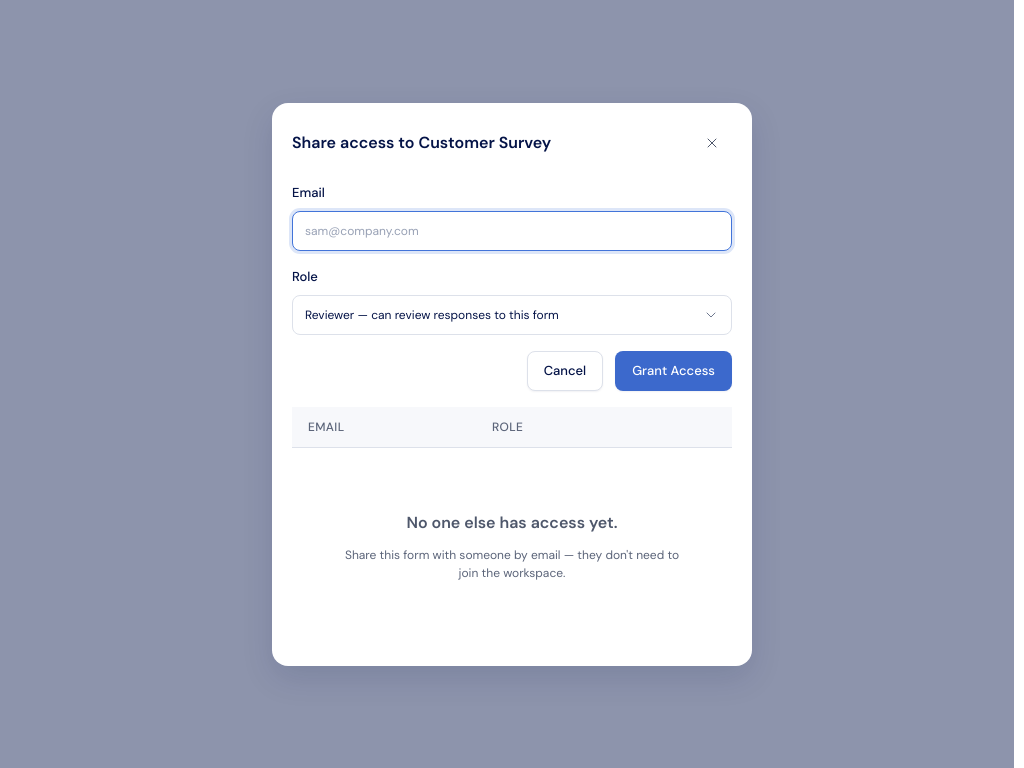
Test: FormAccessPanel › rejects an invalid email before submitting
Type "not-an-email" into the field labelled "Email".
click(512, 230); type("not-an-email")  # box top-left (292, 210), bottom-right (732, 250)
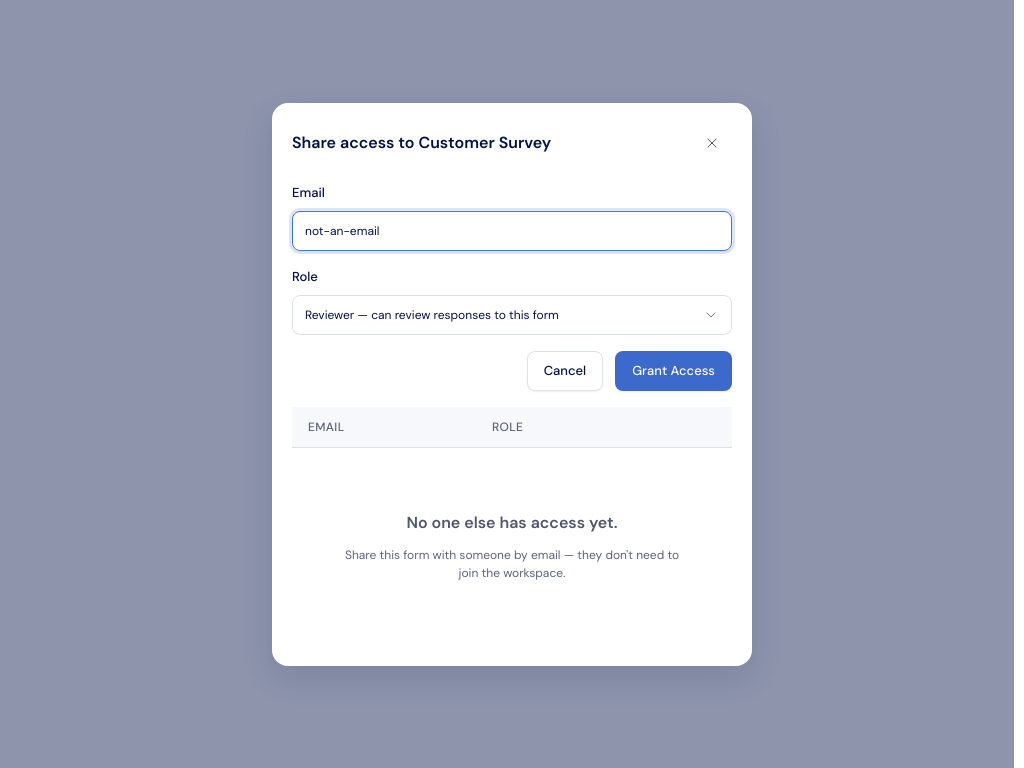
Click the button "Grant Access".
click(674, 370)  # box top-left (615, 350), bottom-right (732, 390)
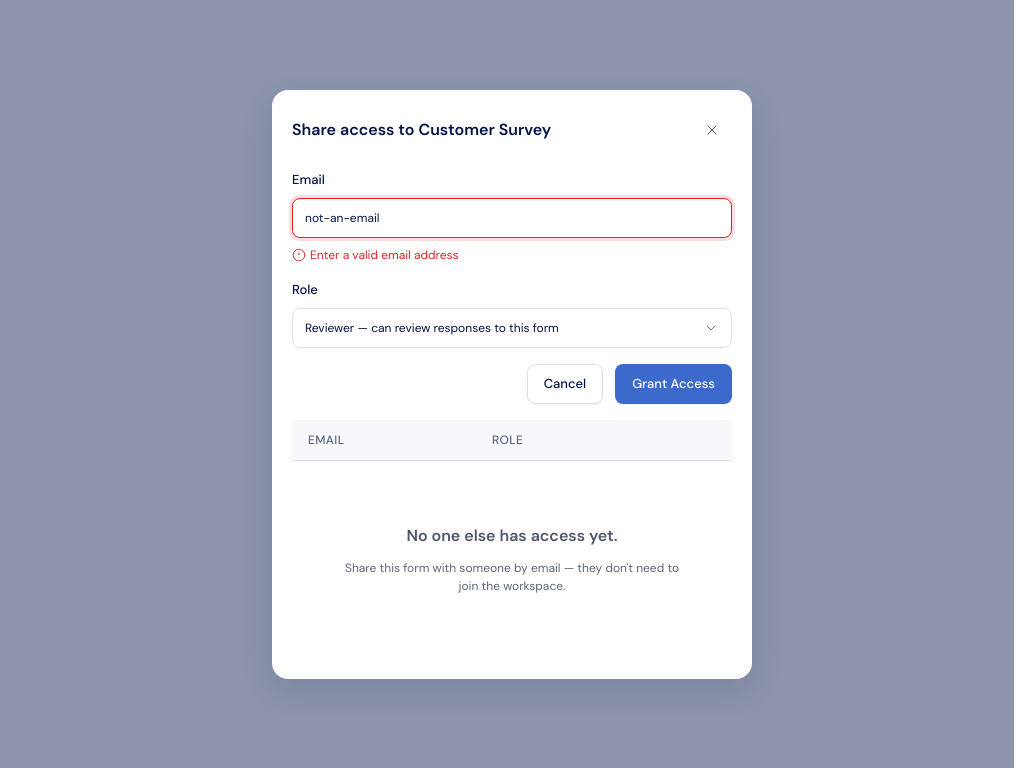
expect the text "Enter a valid email address" is shown: met, box top-left (292, 246), bottom-right (459, 262)
